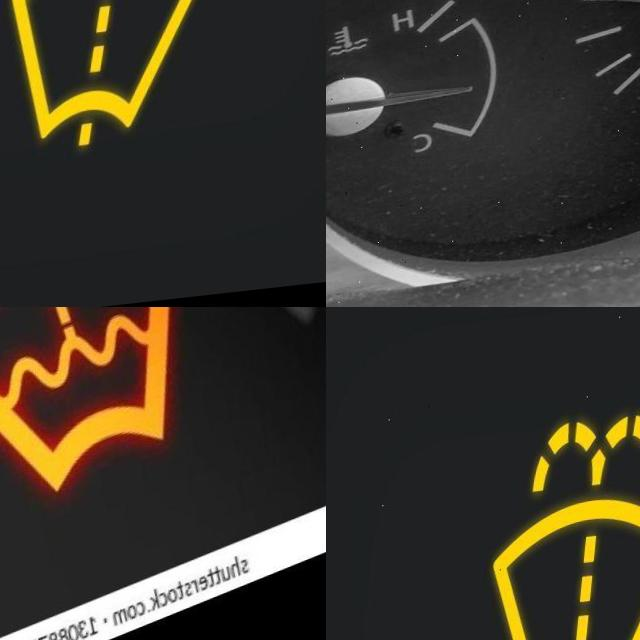Washer Fluid: (0, 307, 195, 512), (3, 0, 223, 160), (484, 415, 640, 640)
